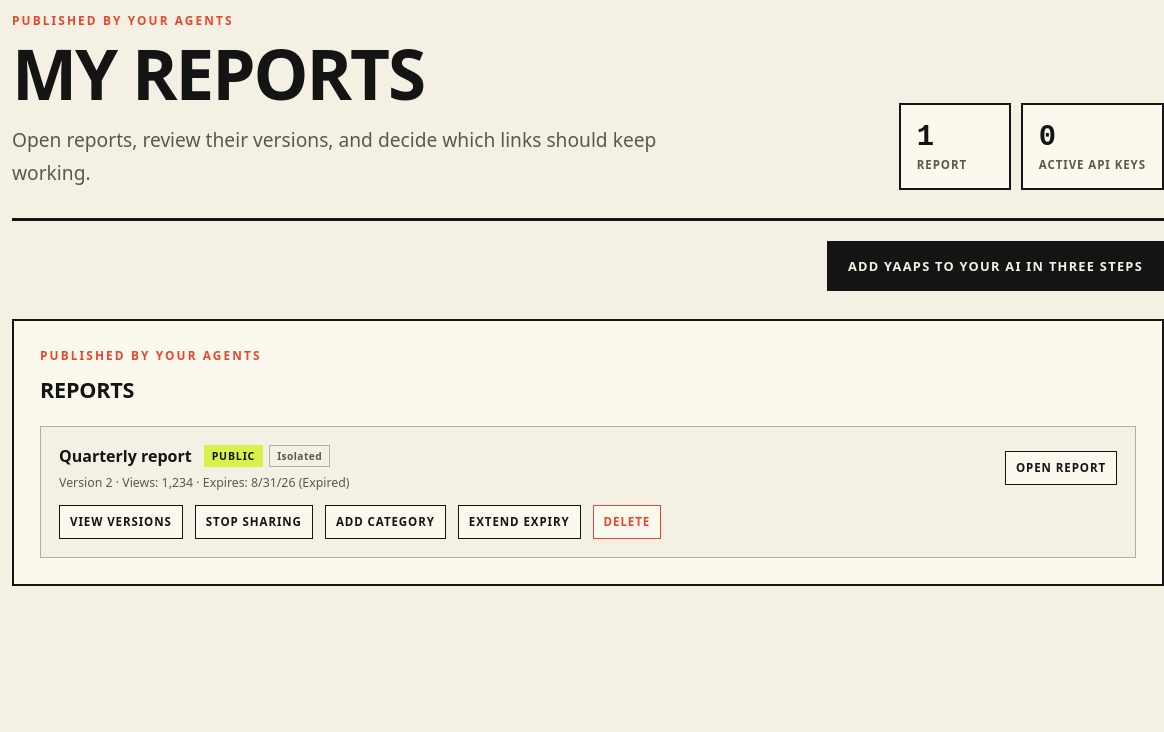
signed-in management dashboard › extends a report's expiry with a preset TTL from now
The width and height of the screenshot is (1164, 732).
Expected: the link "Quarterly report" is shown, [59, 445, 192, 467]
Step 1. Click the button "Extend expiry" → [519, 522], box [458, 505, 580, 539]
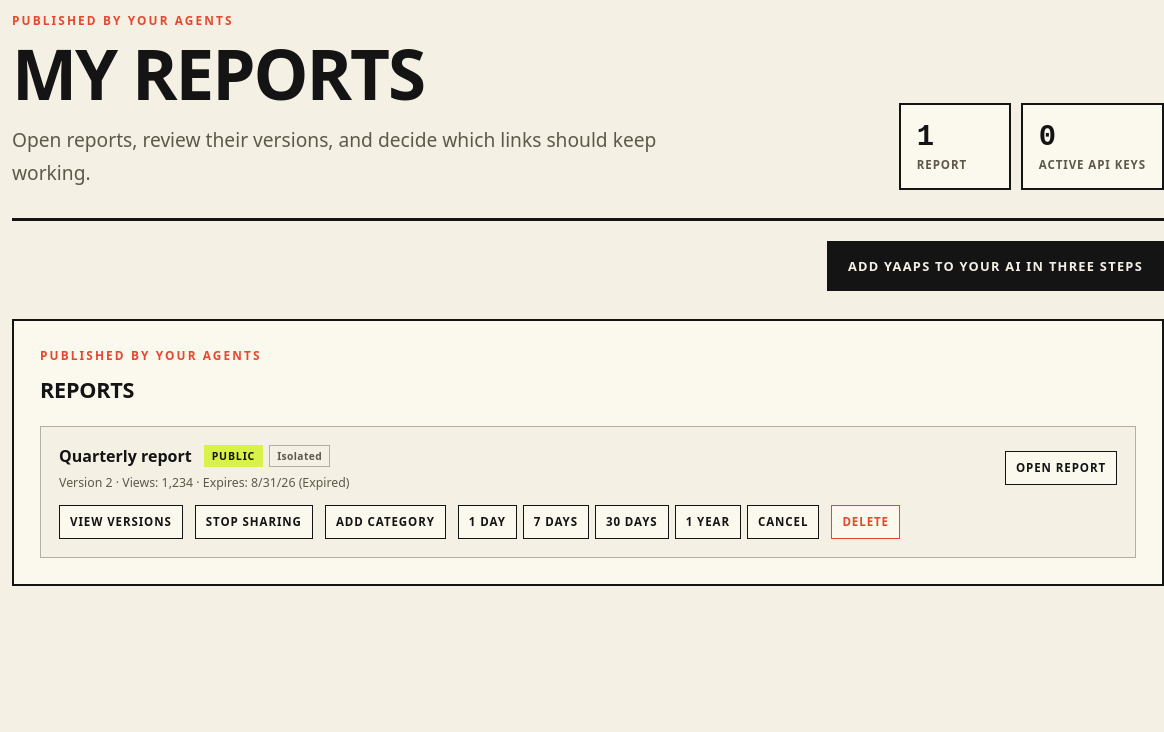
Step 2. Click the button "7 days" → [556, 522], box [523, 505, 589, 539]
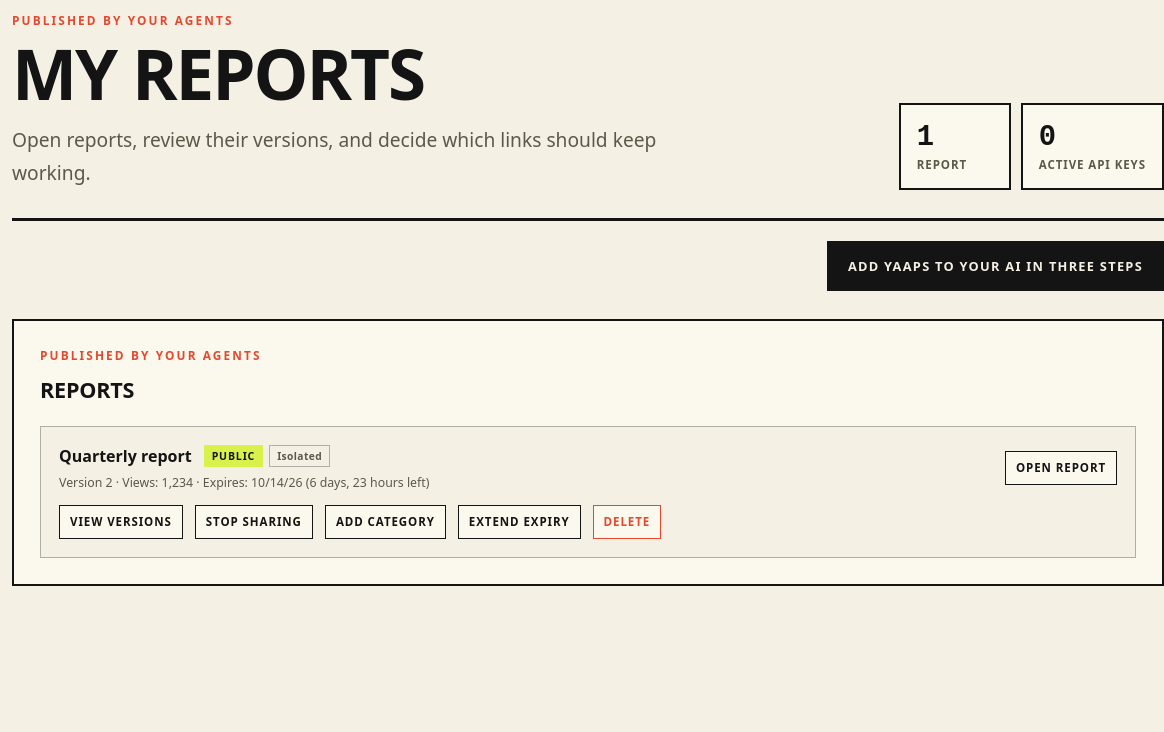
Expected: the element with class "draft-meta" shows "left)", [251, 474, 430, 491]
Expected: the button "Extend expiry" is shown, [458, 505, 580, 539]
